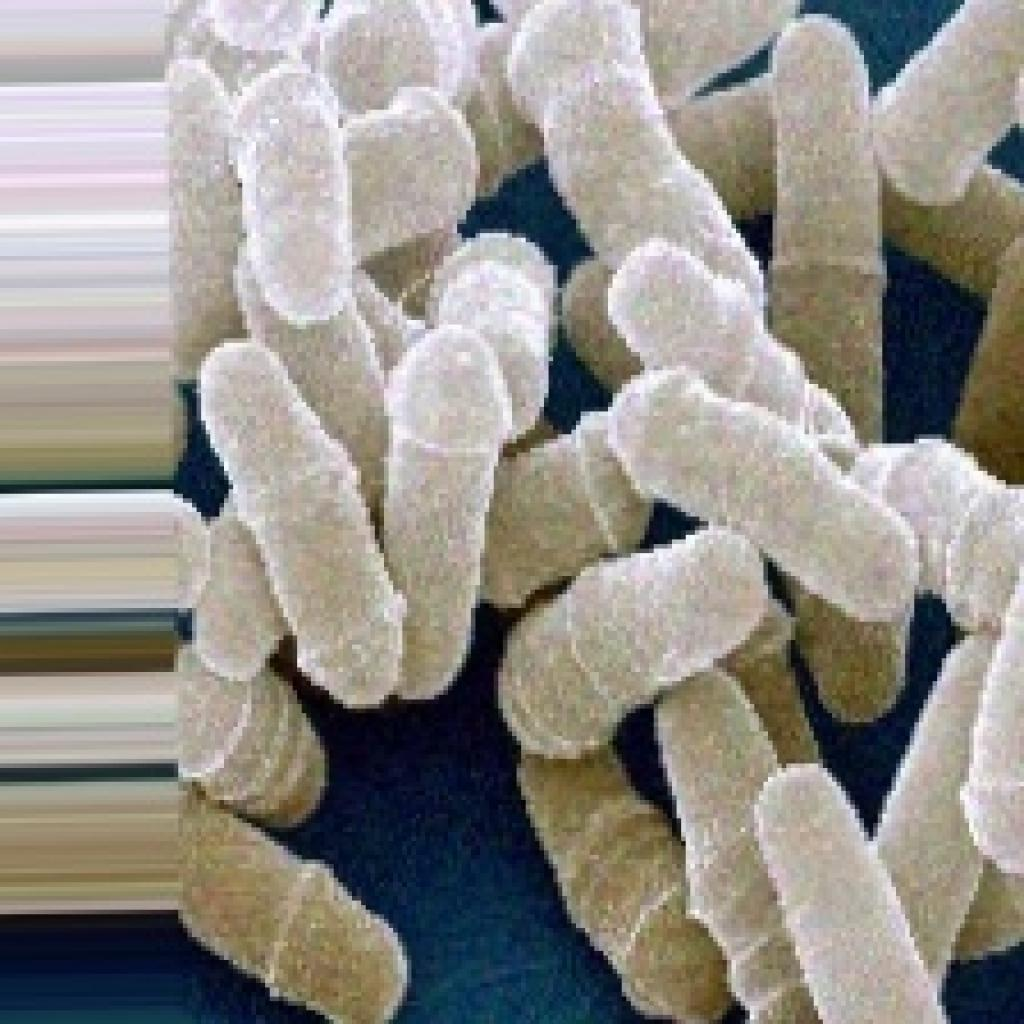Yeast: (159, 0, 1019, 1019)
